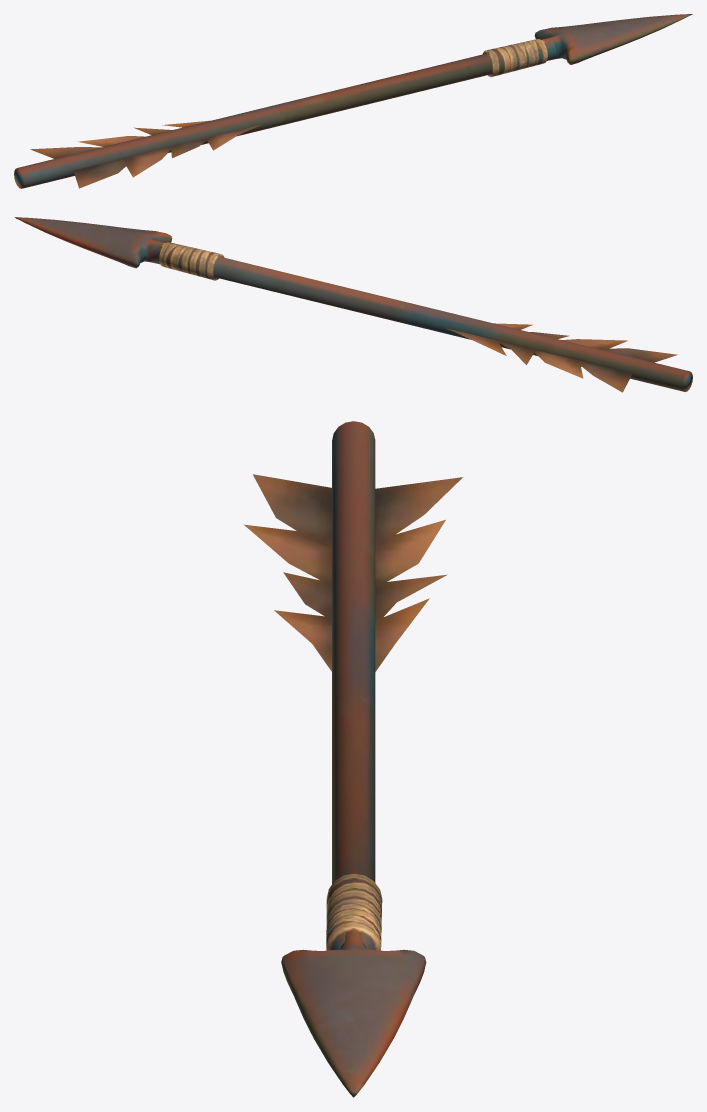
3 views of the same model, one above another, from view 1: azimuth 30°, elevation 25°; view 2: azimuth 150°, elevation 25°; view 3: azimuth 270°, elevation 25° (orthographic). The views are drawn at different scales.
Visible parts, largest first — view 1: SM_CrossbowBolt_Bronze_01_LOD0; view 2: SM_CrossbowBolt_Bronze_01_LOD0; view 3: SM_CrossbowBolt_Bronze_01_LOD0.
Boxes of the visible parts, x1,y1,x2,y2 form: SM_CrossbowBolt_Bronze_01_LOD0: (14,14,692,188); SM_CrossbowBolt_Bronze_01_LOD0: (14,217,692,392); SM_CrossbowBolt_Bronze_01_LOD0: (244,421,462,1097).
Bounding box in the file's own units: 0.461 × 0.0163 × 0.0651.
Materials: 1 (1 with a texture image).
